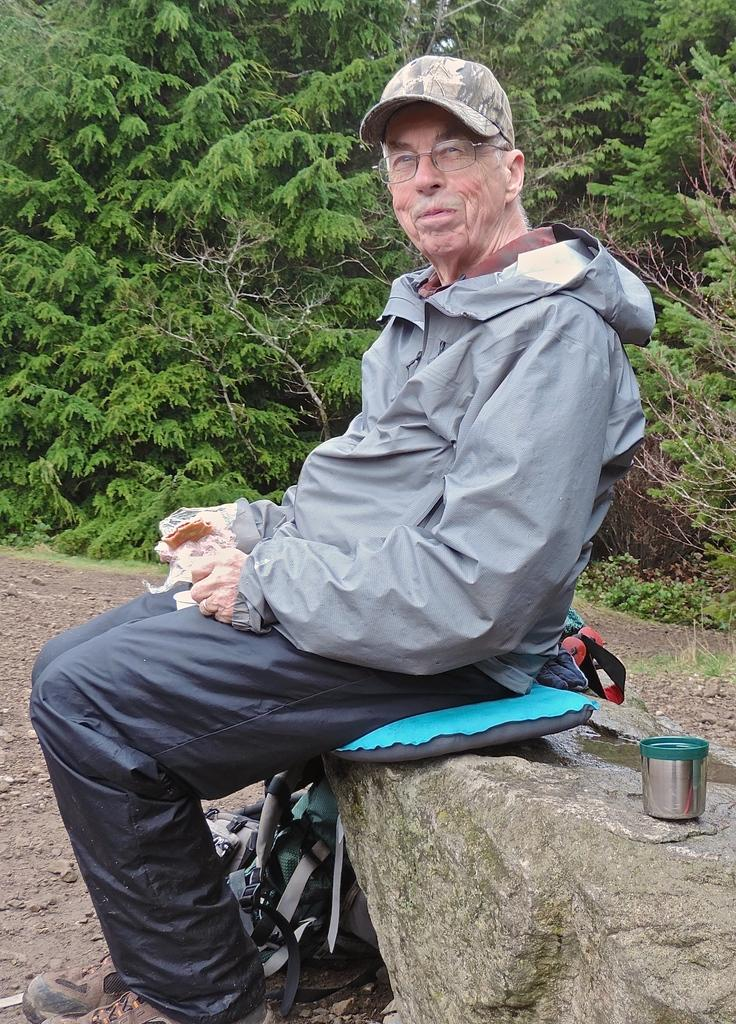Hat: (360, 54, 516, 150)
